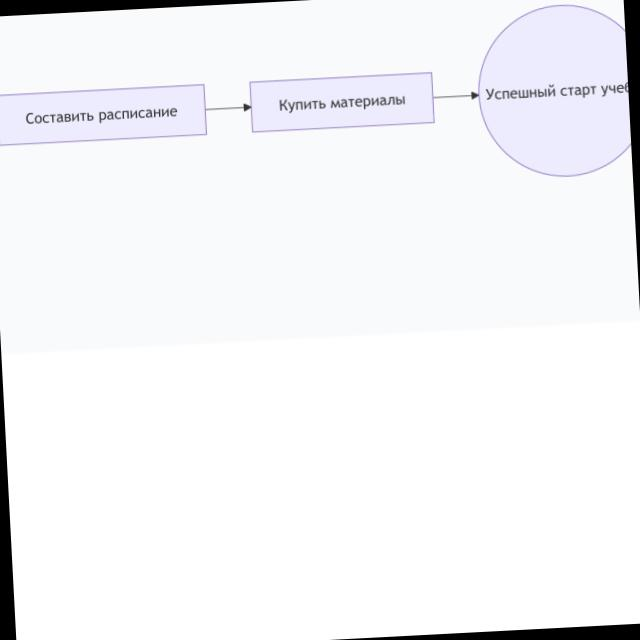arrow: (205, 100, 252, 119), (434, 90, 481, 105)
rectangle: (0, 85, 208, 148), (248, 72, 433, 134)
